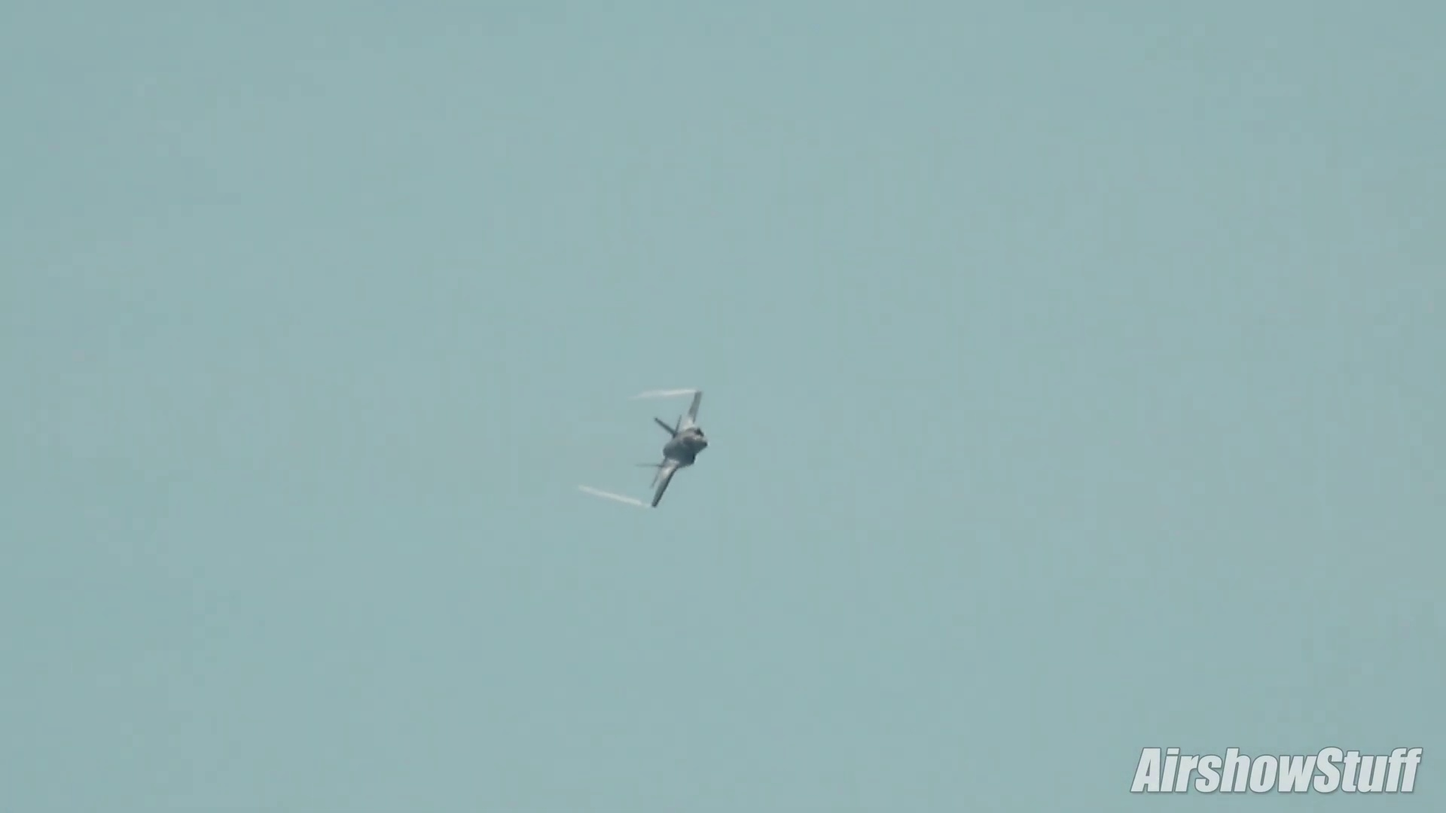F35: (641, 384, 713, 511)
